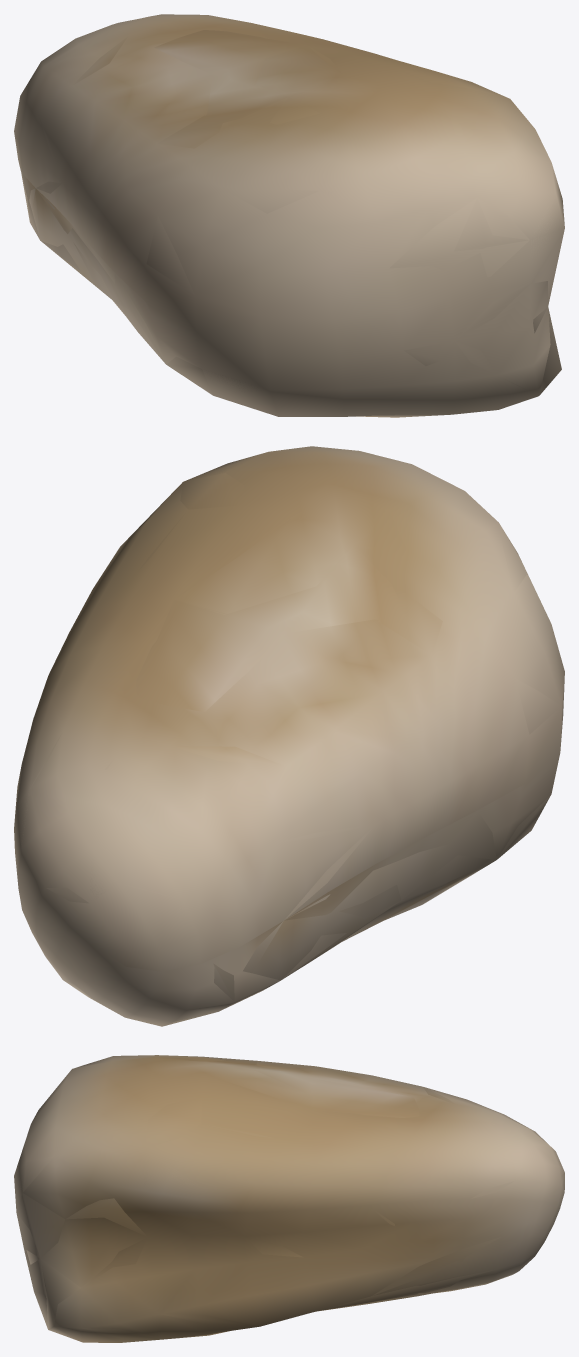
The model's file is L carpi radiale.fbx.
The picture shows the model from 3 angles, top to bottom: view 1: azimuth 30°, elevation 25°; view 2: azimuth 150°, elevation 25°; view 3: azimuth 270°, elevation 25°; orthographic projection. The views are drawn at different scales.
Parts seen in each view (by area): view 1: L carpi radiale, L carpi radiale low; view 2: L carpi radiale, L carpi radiale low; view 3: L carpi radiale, L carpi radiale low.
Part boxes in pixels (x1,y1,x2,y2): L carpi radiale: (14, 14, 564, 417); L carpi radiale low: (21, 20, 564, 415); L carpi radiale: (14, 446, 564, 1026); L carpi radiale low: (16, 454, 561, 1025); L carpi radiale: (14, 1055, 564, 1342); L carpi radiale low: (15, 1058, 564, 1340).
Bounding box in the file's own units: 3.36 × 2.71 × 5.76.
